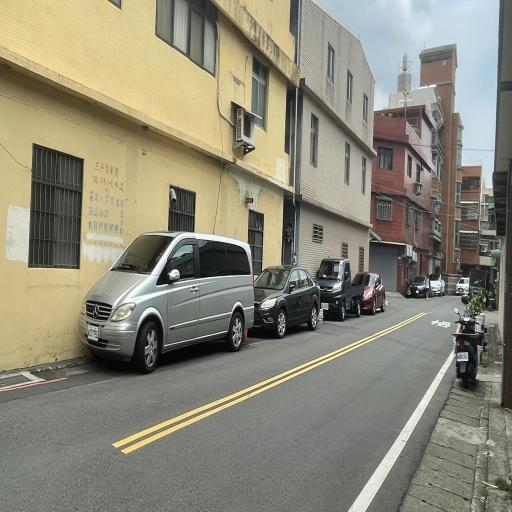car: (72, 215, 257, 373), (249, 244, 321, 338), (312, 245, 364, 339)
redline: (0, 363, 69, 398)
whiteline: (342, 336, 461, 512)
